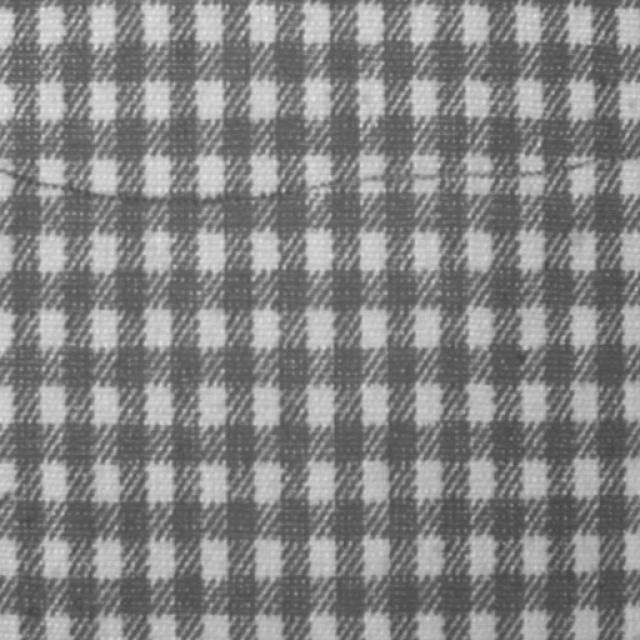Foreign-Body-Defect: (3, 144, 618, 207)
